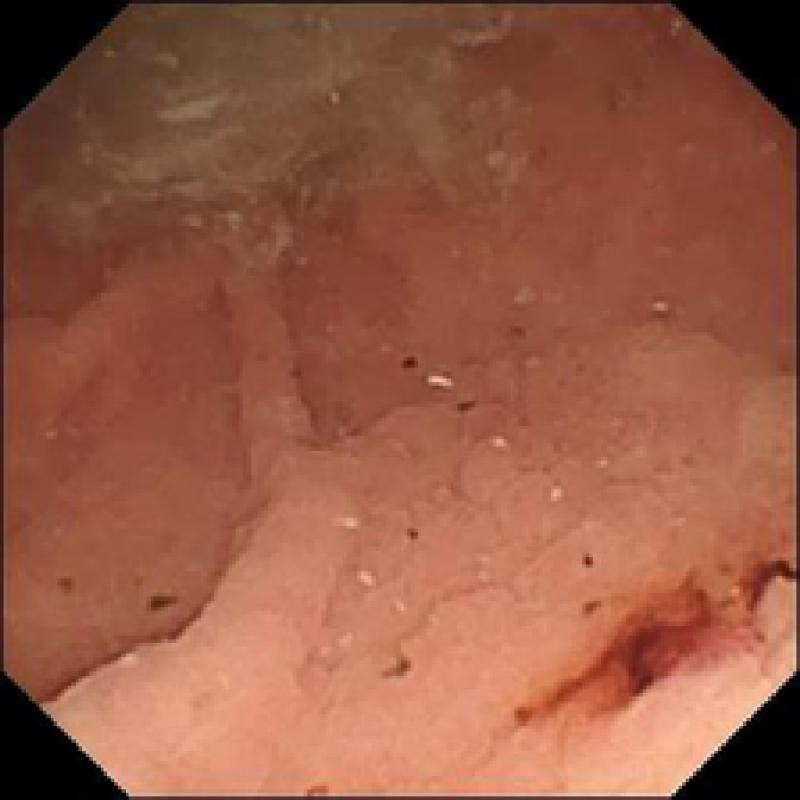bleeding: (507, 560, 800, 736)
